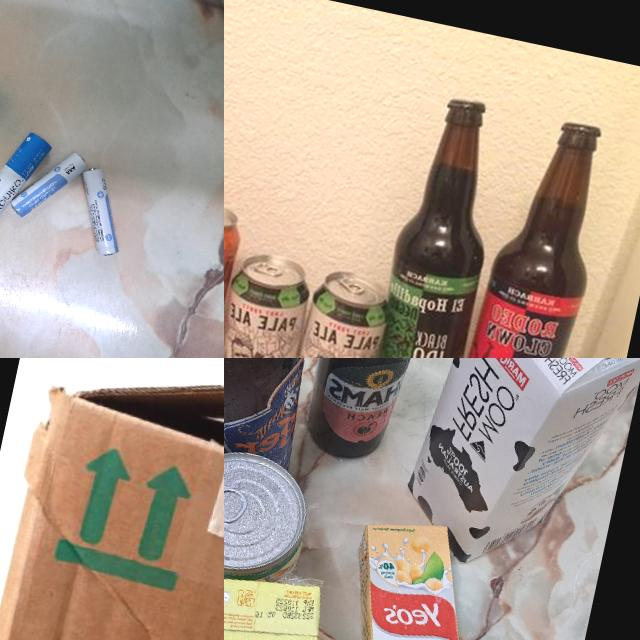aba de lata: (224, 470, 249, 530), (334, 274, 366, 296), (252, 260, 284, 278)
bateria: (8, 142, 86, 229), (66, 165, 134, 258), (0, 123, 52, 228)
caixinha: (395, 358, 640, 593), (321, 511, 505, 640), (224, 560, 330, 640)
garrafa de vidro: (443, 108, 618, 358), (358, 90, 518, 358), (224, 358, 342, 500), (297, 358, 440, 468)
lata: (224, 436, 319, 638), (284, 264, 395, 358), (224, 247, 316, 358)
papelão: (0, 358, 224, 640)
